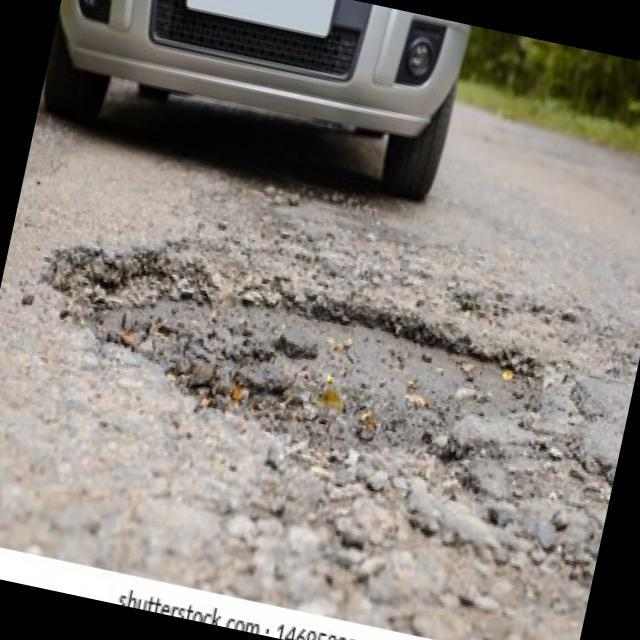Pothole: (12, 225, 556, 502)
